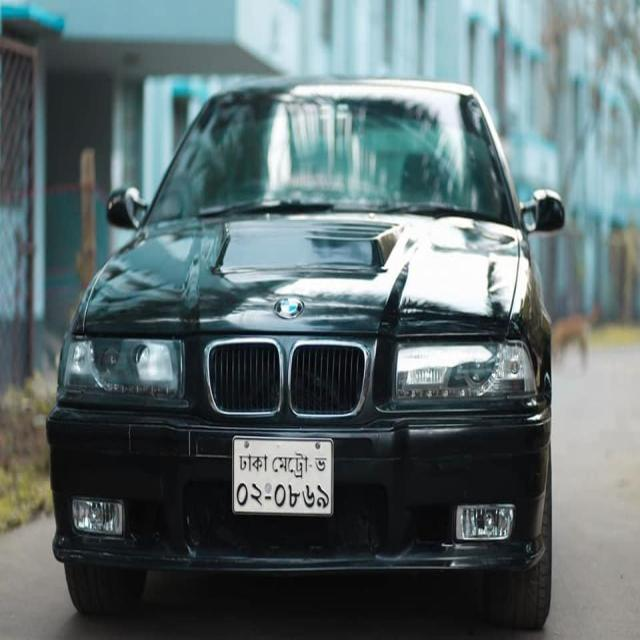numberplate: (230, 435, 334, 517)
